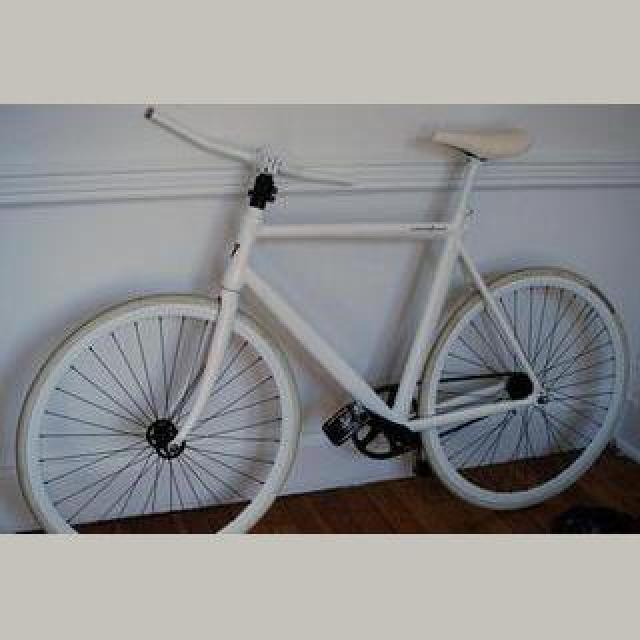Person: (12, 104, 632, 534)
